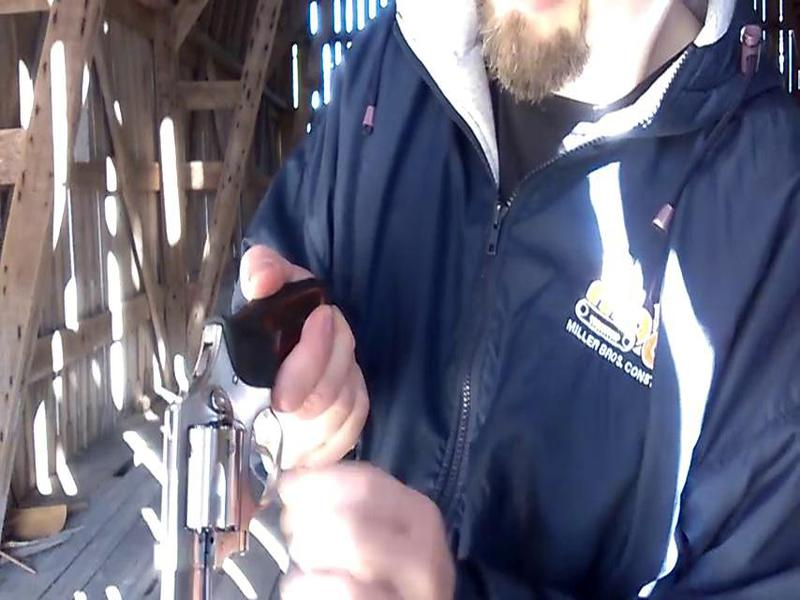Revolver: (130, 280, 362, 600)
